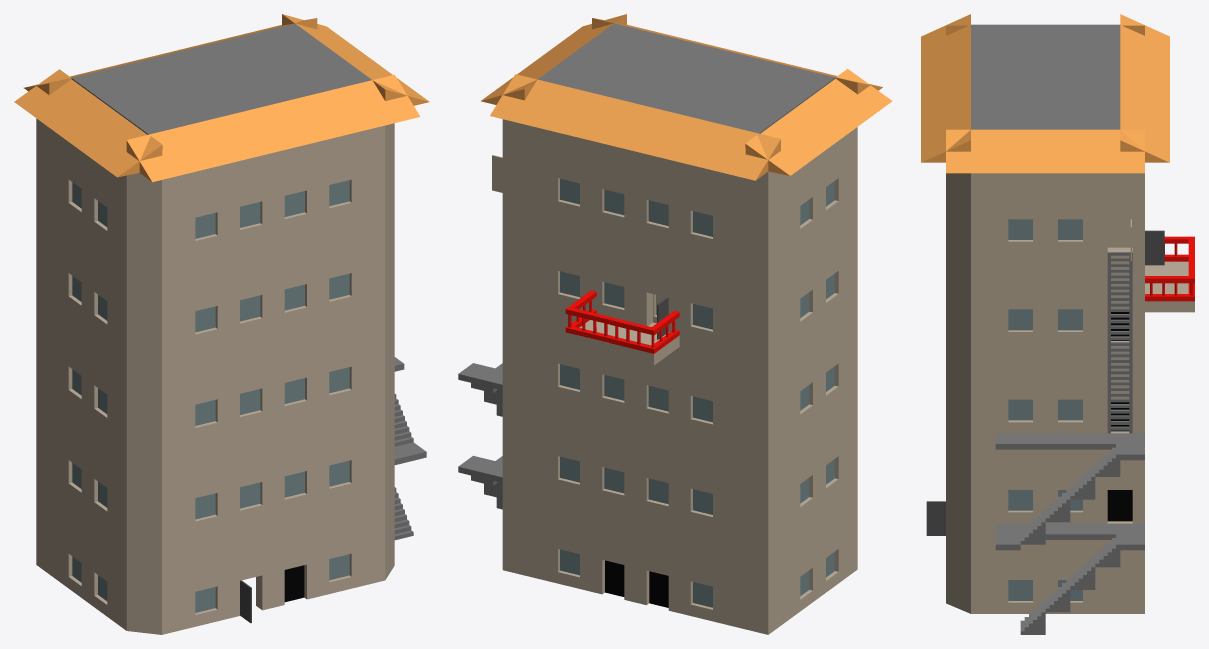
The model's file is Building2.fbx.
3 views of the same model, side by side, from view 1: azimuth 30°, elevation 25°; view 2: azimuth 150°, elevation 25°; view 3: azimuth 270°, elevation 25° (orthographic). The views are drawn at different scales.
Parts seen in each view (by area): view 1: Wall corner.012, Wall corner.021, Wall corner.030, Wall corner.001, Wall corner.006, Wall corner.015, Wall corner.024, Wall corner.033, Wall corner.039, Wall corner.042, Ramp.001, Ramp.002 (+89 smaller); view 2: Wall corner.011, Wall corner.014, Wall corner.005, Wall corner.020, Wall corner.023, Wall corner.029, Wall corner.032, Wall corner.038, Wall corner.003, Wall corner.041, Ramp.008, Ramp.007 (+91 smaller); view 3: Wall window.023, Wall.034, Wall window.034, Wall window.024, Wall.035, Wall window.035, Wall corner.008, Wall corner.013, Wall corner.026, Wall.048, Wall.049, Wall window.045 (+78 smaller).
Part boxes in pixels (x1,y1,x2,y2): Wall corner.012: (113, 481, 184, 541); Wall corner.021: (113, 388, 184, 447); Wall corner.030: (113, 294, 184, 354); Wall corner.001: (113, 575, 184, 634); Wall corner.006: (113, 528, 184, 588); Wall corner.015: (113, 435, 184, 494); Wall corner.024: (113, 341, 184, 400); Wall corner.033: (113, 248, 184, 307); Wall corner.039: (113, 201, 184, 260); Wall corner.042: (113, 173, 184, 213); Ramp.001: (171, 118, 241, 171); Ramp.002: (216, 107, 286, 160); Wall corner.011: (724, 477, 793, 541); Wall corner.014: (724, 431, 793, 495); Wall corner.005: (724, 524, 793, 588); Wall corner.020: (724, 384, 793, 449); Wall corner.023: (724, 338, 793, 402); Wall corner.029: (724, 292, 793, 356); Wall corner.032: (724, 245, 793, 310); Wall corner.038: (724, 199, 793, 263); Wall corner.003: (724, 570, 793, 634); Wall corner.041: (724, 171, 793, 217); Ramp.008: (667, 117, 736, 169); Ramp.007: (623, 106, 692, 158); Wall window.023: (995, 388, 1045, 433); Wall.034: (995, 343, 1045, 388); Wall window.034: (995, 298, 1045, 343); Wall window.024: (1045, 388, 1095, 433); Wall.035: (1045, 343, 1095, 388); Wall window.035: (1045, 298, 1095, 343); Wall corner.008: (946, 513, 995, 568); Wall corner.013: (946, 468, 995, 523); Wall corner.026: (946, 333, 995, 388); Wall.048: (995, 253, 1045, 297); Wall.049: (1045, 253, 1095, 297); Wall window.045: (995, 208, 1045, 252).
Size of the model in its own units: 3000 by 4201 by 2200.
